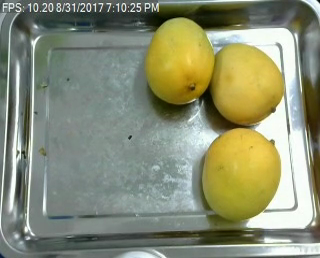Mango: (196, 127, 287, 222), (205, 40, 285, 127), (138, 18, 216, 105)
